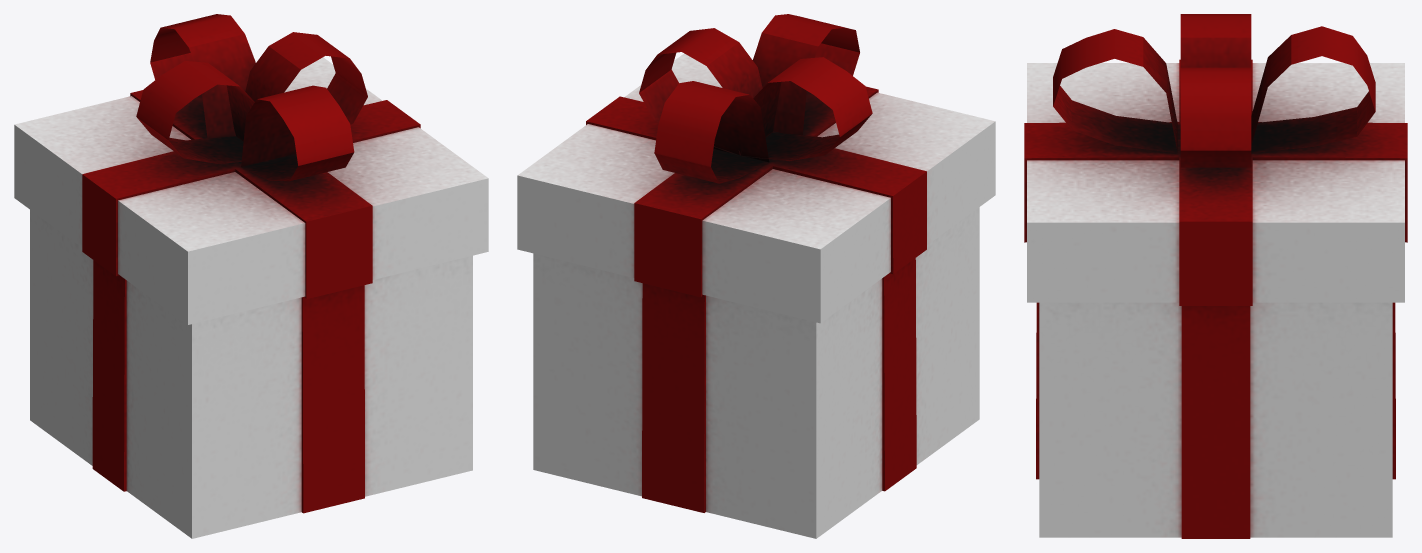
Rendered from presentBox.FBX.
3 renders of one model, left to right at view 1: azimuth 30°, elevation 25°; view 2: azimuth 150°, elevation 25°; view 3: azimuth 270°, elevation 25°, orthographic. The views are drawn at different scales.
Visible parts, largest first — view 1: Box001; view 2: Box001; view 3: Box001.
Part boxes in pixels (x1,y1,x2,y2): Box001: [14, 14, 488, 538]; Box001: [517, 14, 995, 538]; Box001: [1024, 14, 1407, 538].
Bounding box in the file's own units: 109 × 109 × 132.
Materials: 1 (1 with a texture image).
